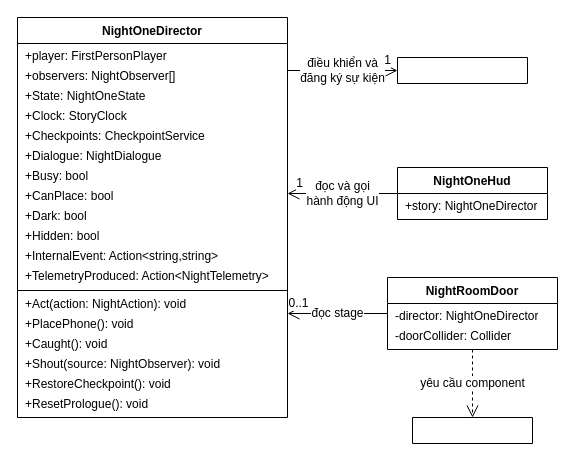
This 575x461 diagram has some shape labels left out. The shapes that lost their labels are listed below. From the top down, each one's centre as x and y in pixels, then its label:
the point at 462,70: FirstPersonPlayer
the point at 472,430: NightInteraction
